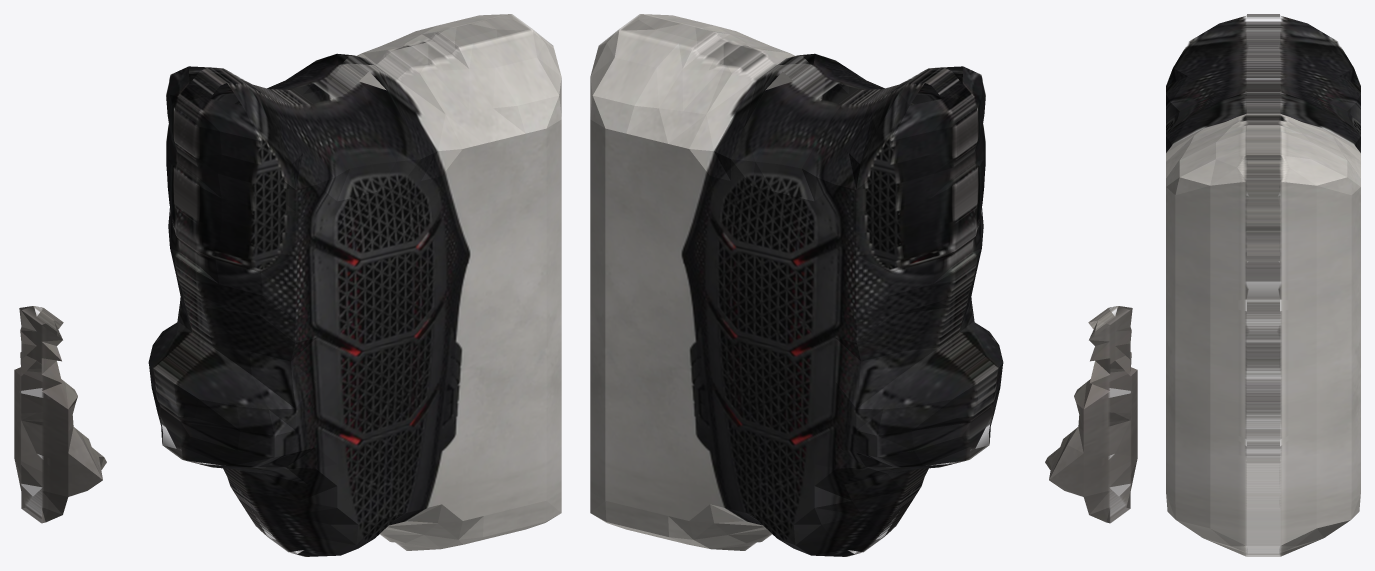
Rendered from tcx-vantage-back-protector-148.glb.
3 renders of one model, left to right at view 1: azimuth 30°, elevation 25°; view 2: azimuth 150°, elevation 25°; view 3: azimuth 270°, elevation 25°, orthographic. The views are drawn at different scales.
Visible parts, largest first — view 1: world; view 2: world; view 3: world.
Boxes of the visible parts, x1,y1,x2,y2 form: world: (14, 14, 561, 556); world: (590, 14, 1137, 556); world: (1166, 14, 1360, 556).
Bounding box in the file's own units: 1 × 0.9564 × 0.4.
Materials: 1 (1 with a texture image).
